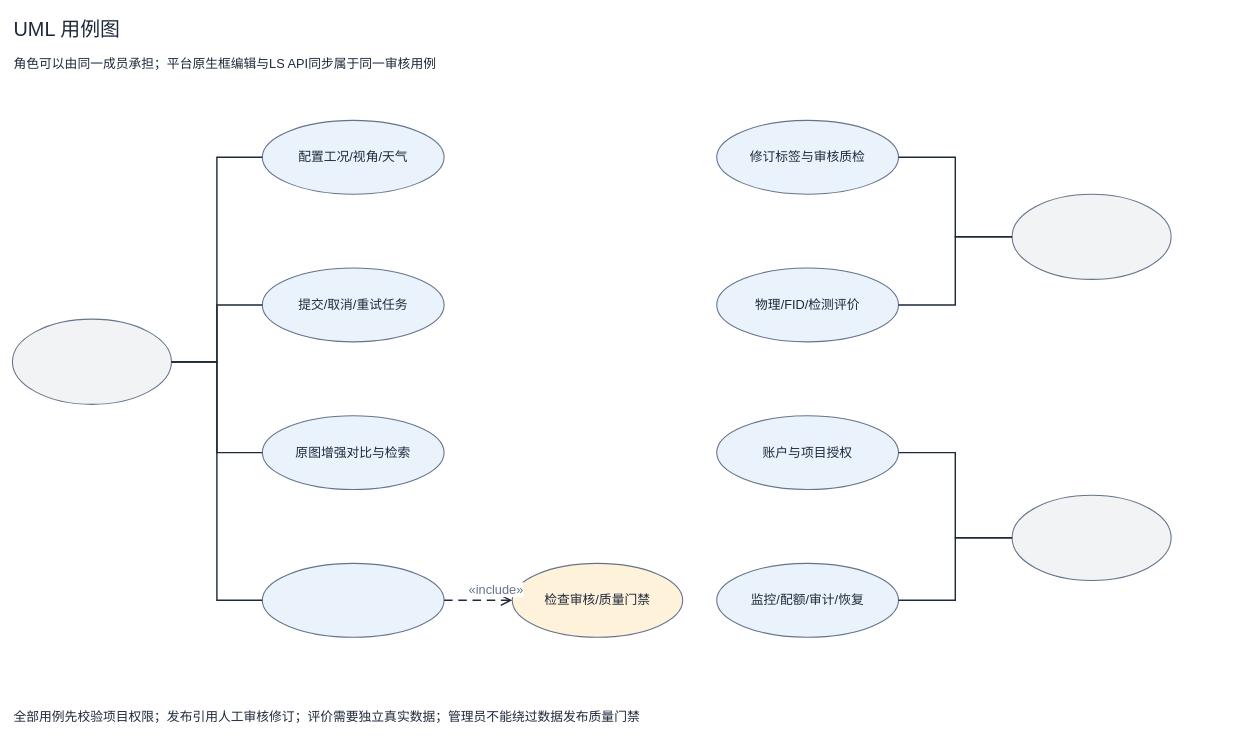
This 1246x751 diagram has some shape labels left out. Here are the shapes that lost their labels. From the top down, the centre of each, then its label:
At point 1091,236: "«actor» 审核/评价人员".
At point 92,361: "«actor» 数据构建人员".
At point 1091,537: "«actor» 管理员".
At point 352,600: "冻结DVC版本与导出".
